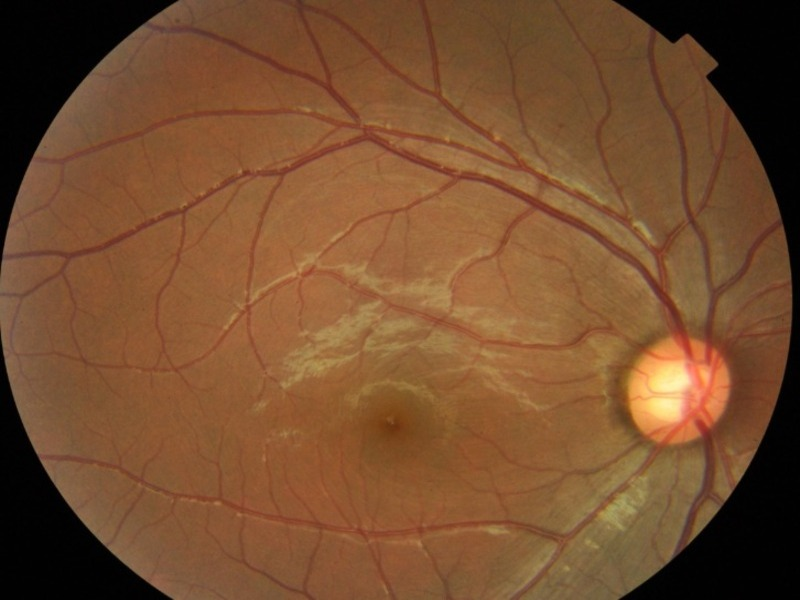Optic Cup: (646, 368, 687, 419)
Optic Disc: (626, 334, 728, 443)
